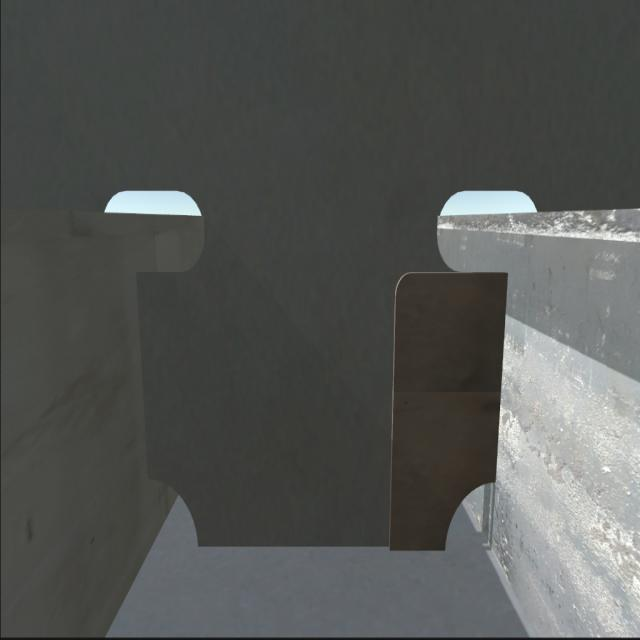fillet_hole: (441, 478, 497, 548), (149, 484, 197, 542)
fillet_yong_jeop_jang: (194, 532, 444, 560)
longi_yong_jeop_jang: (134, 271, 158, 484), (492, 261, 514, 484)
plate_CP05: (390, 264, 508, 551)
